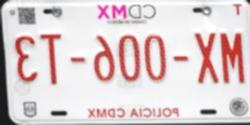License_Plate: (7, 2, 250, 119)
